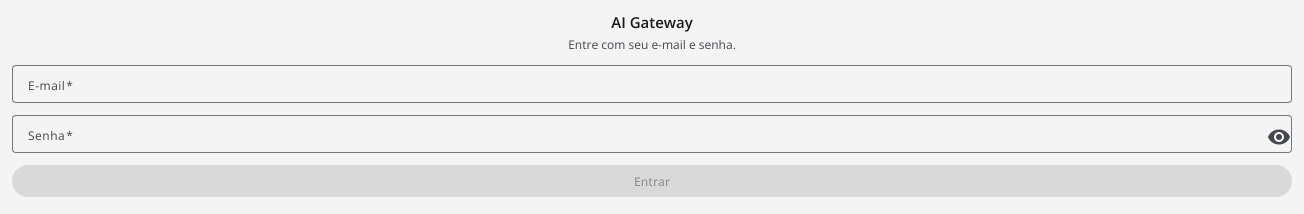
Scenario: SignInComponent › submit button › should be enabled when both fields are filled
The width and height of the screenshot is (1304, 214).
Type "ana@example.com" into the field named "email" at (652, 84), box [28,72,1276,96]
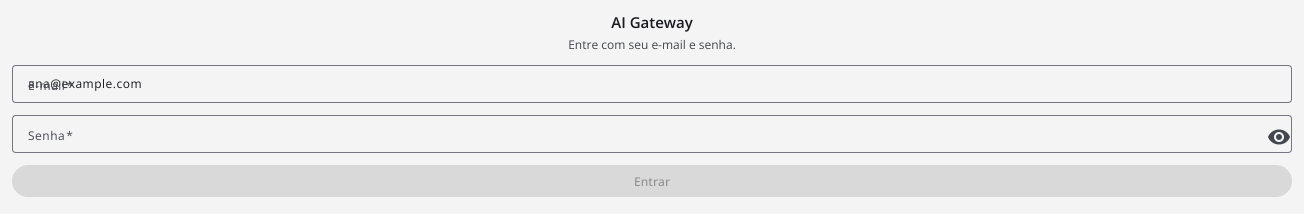
Type "secret-password" into the password field named "password" at (642, 134), box [28,122,1256,146]
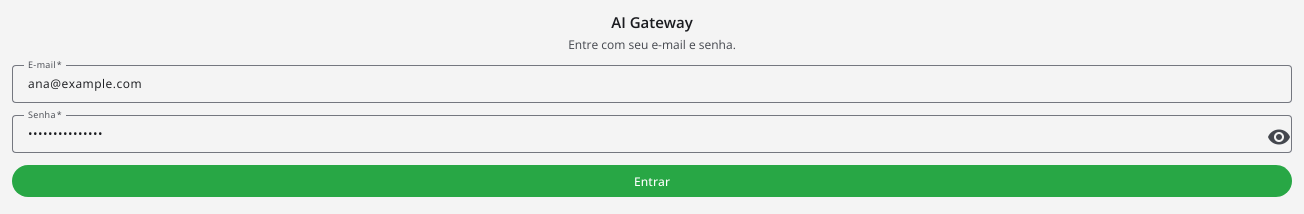
Expected: the submit button is enabled, [12,165,1292,197]
